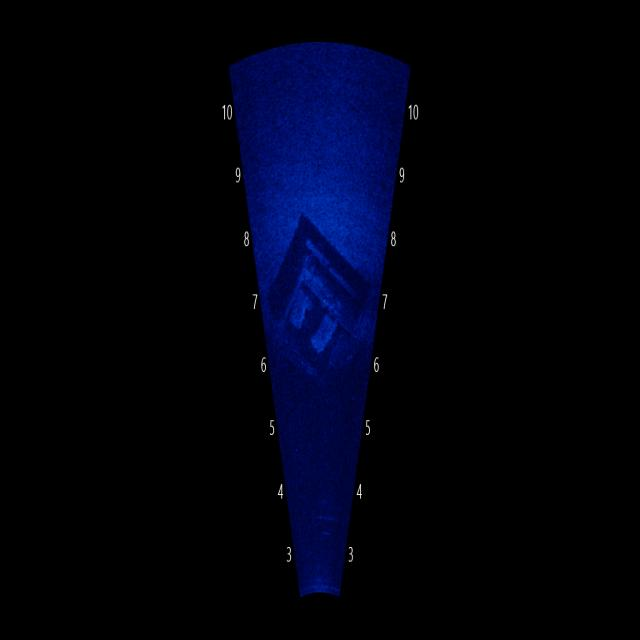square: (271, 207, 374, 397)
